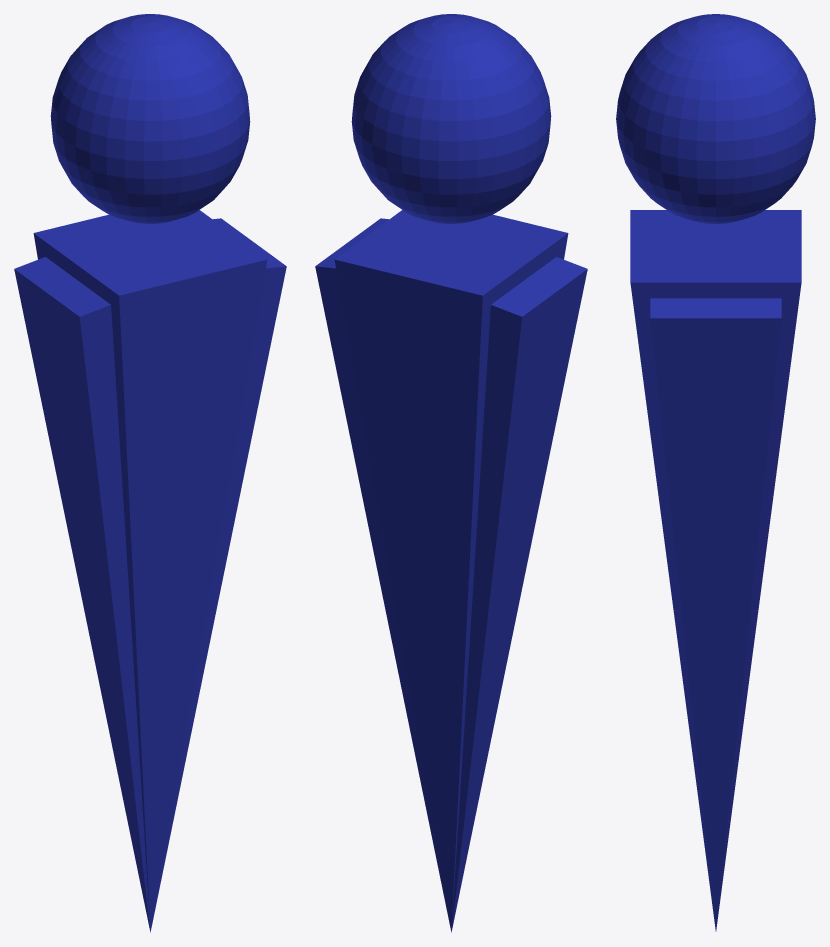
The model's file is player_model.gltf.
3 renders of one model, left to right at view 1: azimuth 30°, elevation 25°; view 2: azimuth 150°, elevation 25°; view 3: azimuth 270°, elevation 25°, orthographic.
Visible parts, largest first — view 1: player; view 2: player; view 3: player.
Part boxes in pixels (<box>): player: <box>14,14,286,932</box>; player: <box>315,14,587,932</box>; player: <box>616,14,815,931</box>.
Bounding box in the file's own units: 0.3801 × 1.6 × 0.3176.
1 material, 1 textured.
